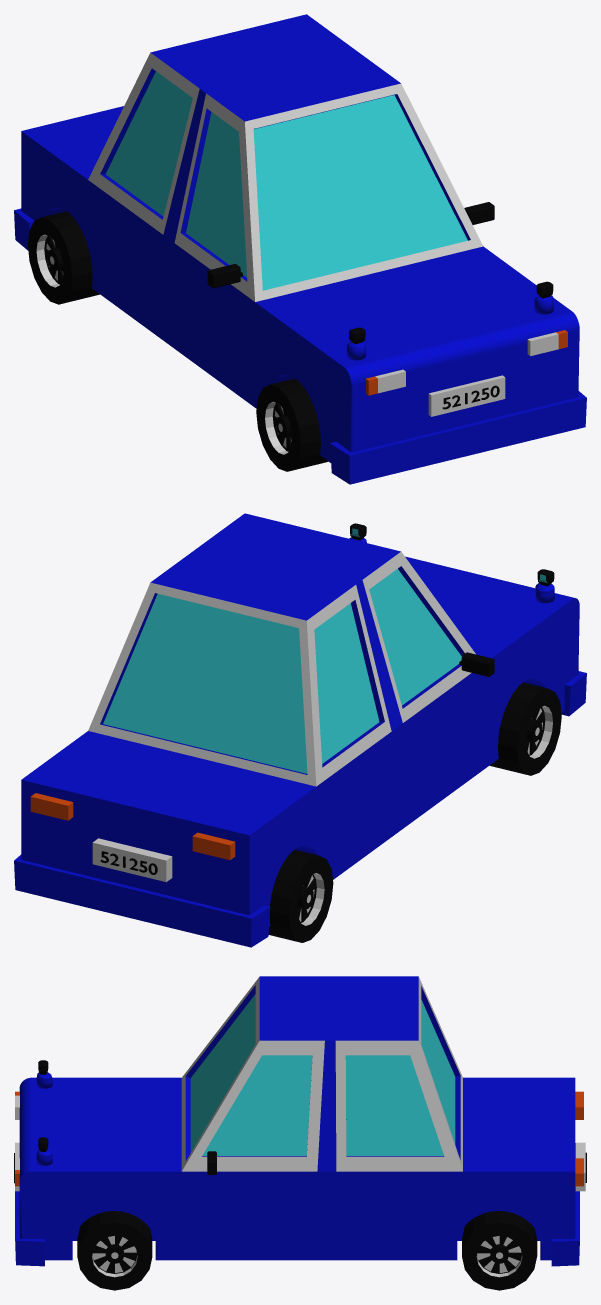
The model's file is Low_poly_house.obj.
The picture shows the model from 3 angles, top to bottom: view 1: azimuth 30°, elevation 25°; view 2: azimuth 150°, elevation 25°; view 3: azimuth 270°, elevation 25°; orthographic projection. The views are drawn at different scales.
Parts seen in each view (by area): view 1: Text, Cylinder.004_Cylinder.006, Cylinder.001_Cylinder.003; view 2: Text, Cylinder.001_Cylinder.003, Cylinder.004_Cylinder.006; view 3: Text, Cylinder.001_Cylinder.003, Cylinder.004_Cylinder.006.
Part boxes in pixels (x1,y1,x2,y2): Text: [14, 14, 586, 484]; Cylinder.004_Cylinder.006: [28, 211, 99, 304]; Cylinder.001_Cylinder.003: [256, 378, 328, 471]; Text: [14, 513, 586, 947]; Cylinder.001_Cylinder.003: [489, 682, 561, 775]; Cylinder.004_Cylinder.006: [268, 849, 333, 942]; Text: [14, 976, 586, 1266]; Cylinder.001_Cylinder.003: [77, 1211, 152, 1290]; Cylinder.004_Cylinder.006: [462, 1211, 537, 1290].
Size of the model in its own units: 2.89 by 2.66 by 6.05.
